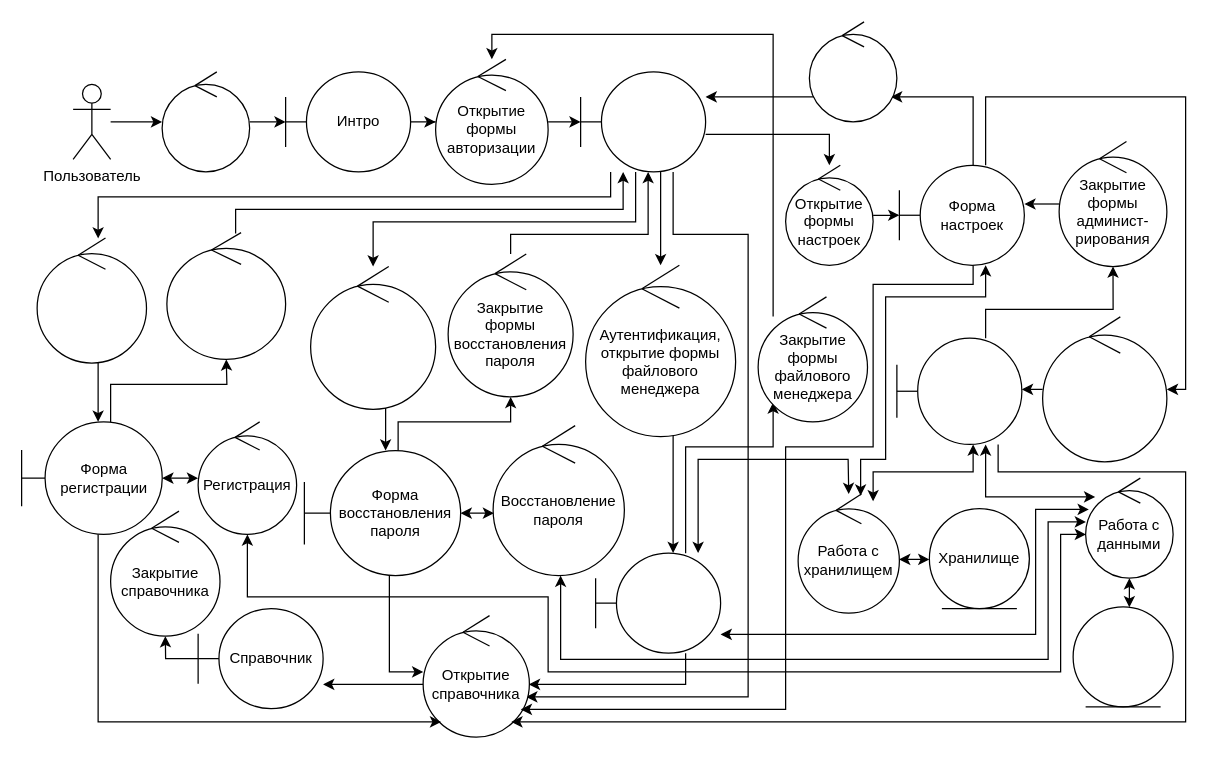
Image size: 1219x760. Some labels were removed from this diagram. The centre of each missing label's shape, as x and y in pixels:
Аутенти-фикация, открытие формы админист-рирования: [1104,389]
База данных: [1122,656]
Закрытие формы настроек: [852,71]
Закрытие формы регистрации: [226,295]
Открытие программы: [205,121]
Открытие формы восстановления пароля: [372,337]
Отурытие формы регистрации: [91,300]
Форма авторизации: [642,121]
Форма админист-рирования: [959,390]
Форма файлового менеджера: [657,602]
